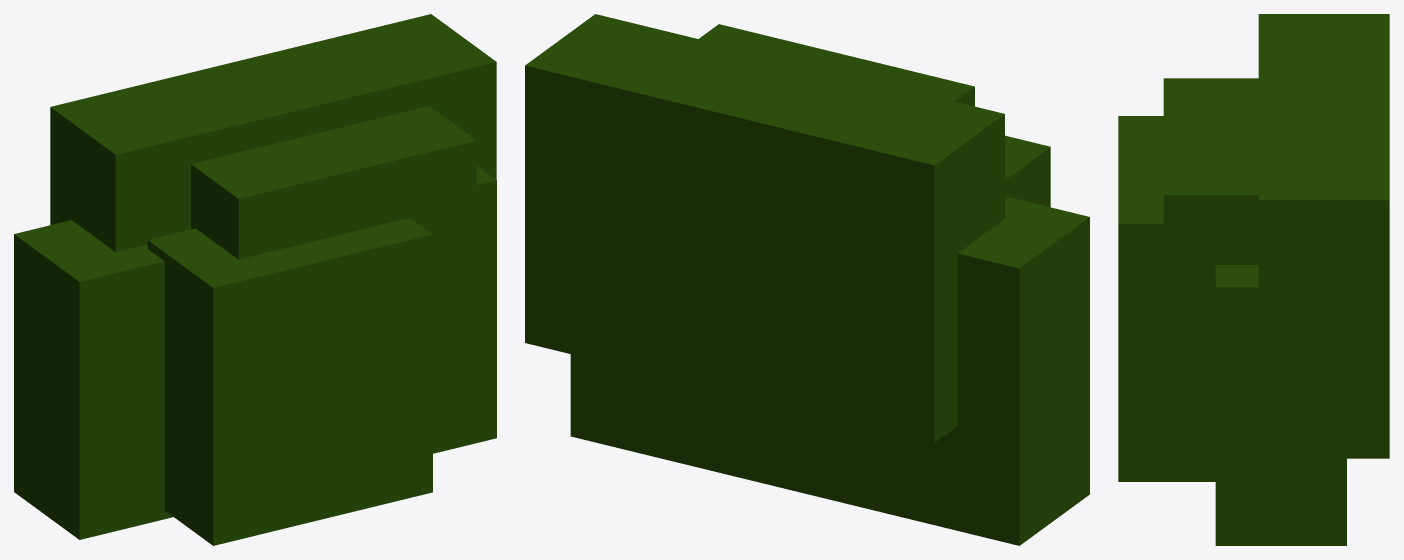
Rendered from bush_large.glb.
3 views of the same model, side by side, from view 1: azimuth 30°, elevation 25°; view 2: azimuth 150°, elevation 25°; view 3: azimuth 270°, elevation 25° (orthographic). The views are drawn at different scales.
Visible parts, largest first — view 1: bush_large; view 2: bush_large; view 3: bush_large.
Boxes of the visible parts, x1,y1,x2,y2 form: bush_large: (14,14,496,545); bush_large: (525,14,1089,545); bush_large: (1118,14,1389,545).
Size of the model in its own units: 210 by 163 by 112.
